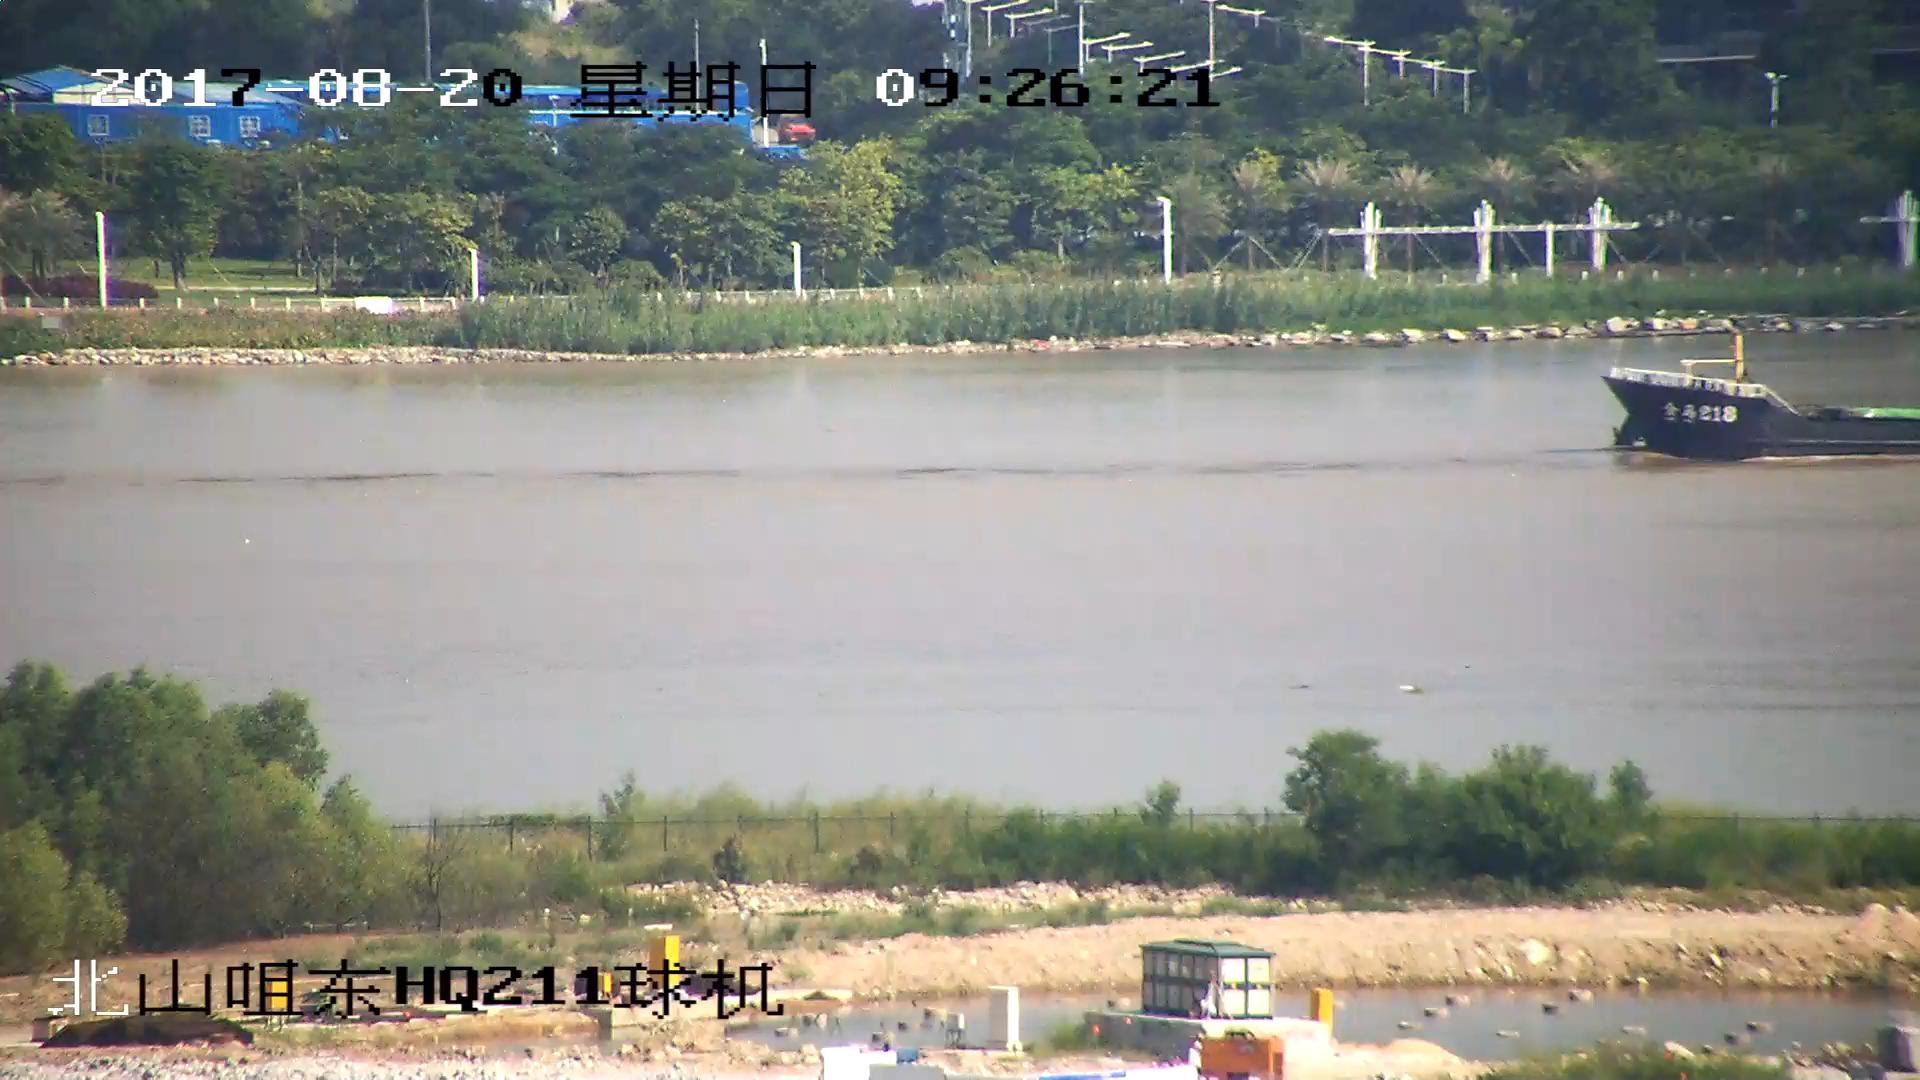Ship: (1607, 361, 1920, 459)
